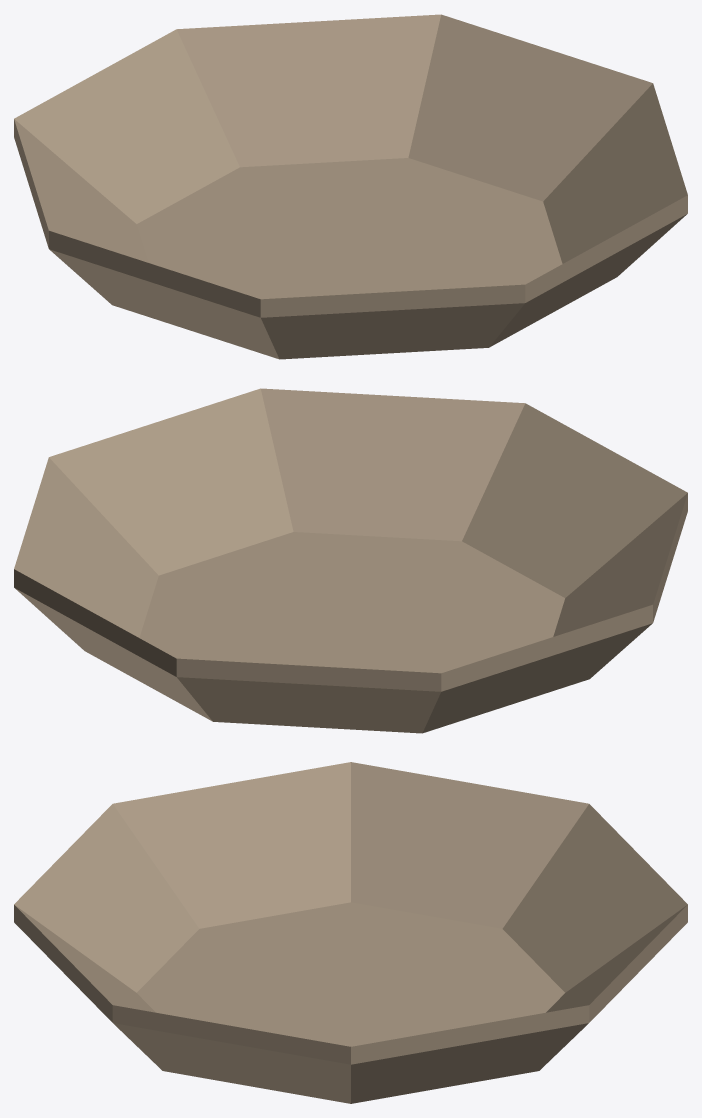
File: Plate.001.fbx
The picture shows the model from 3 angles, top to bottom: view 1: azimuth 30°, elevation 25°; view 2: azimuth 150°, elevation 25°; view 3: azimuth 270°, elevation 25°; orthographic projection. The views are drawn at different scales.
Parts seen in each view (by area): view 1: Plate.001; view 2: Plate.001; view 3: Plate.001.
Part boxes in pixels (x1,y1,x2,y2): Plate.001: [14, 14, 687, 359]; Plate.001: [14, 388, 687, 733]; Plate.001: [14, 762, 687, 1103].
Size of the model in its own units: 84.98 by 18.55 by 84.98.
